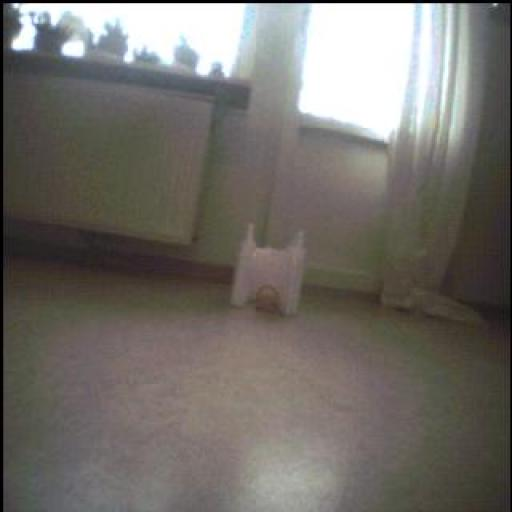Basket: (255, 284, 284, 316)
